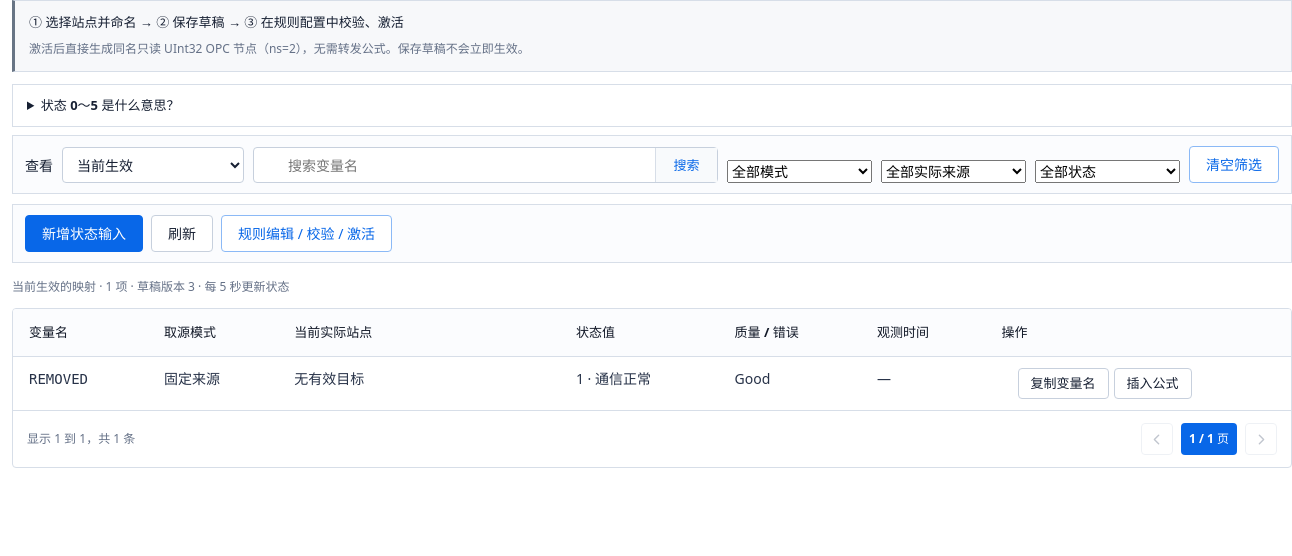
Test case: does not recreate a binding removed from the newer draft when an old row is still visible
Select "已保存草稿（未生效）" in the dropdown named "配置视图" at (153, 165), box [62,147,244,183]
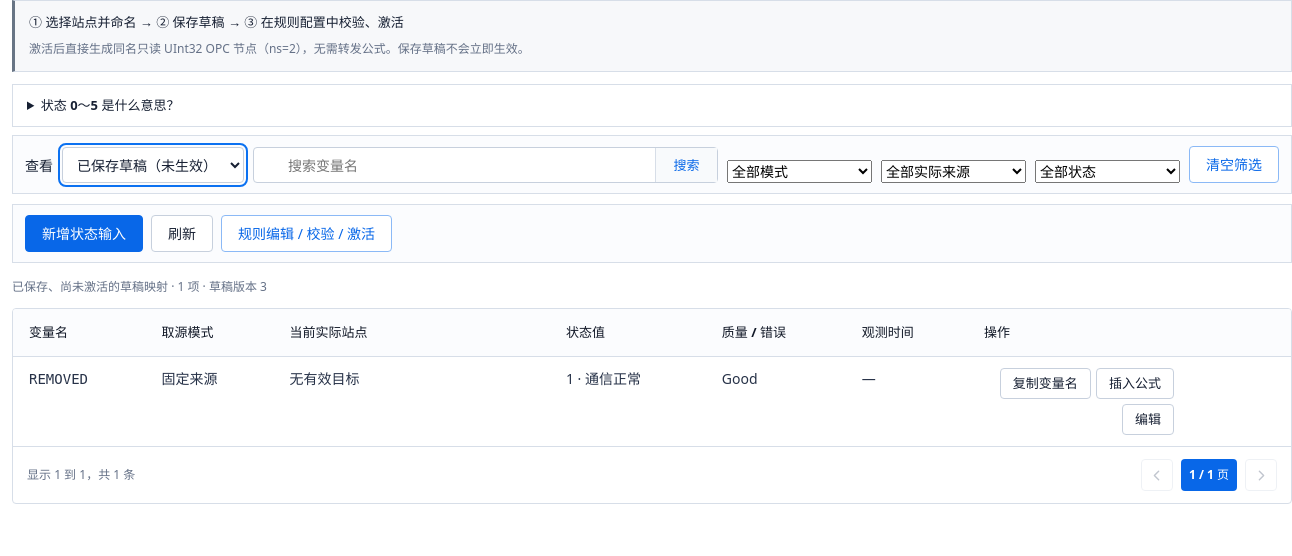
Expected: the button "编辑" is enabled
Click the button "编辑" at (1148, 420), box [1122,404,1174,435]
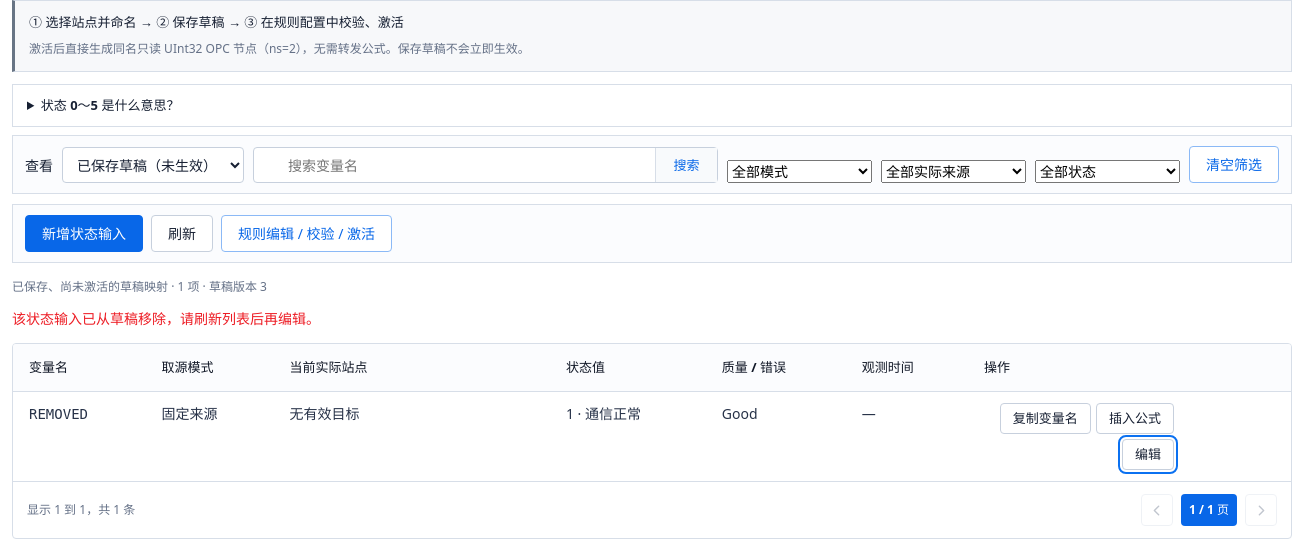
Expected: the text "该状态输入已从草稿移除，请刷新列表后再编辑。" is shown, [12,309,320,328]
